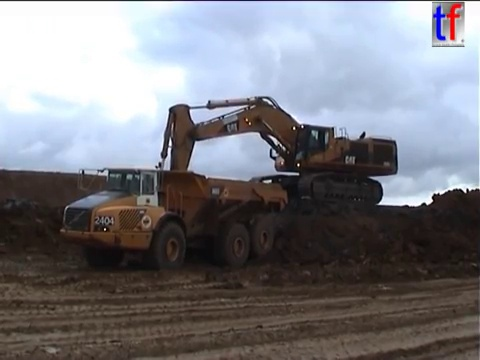excavator: (148, 93, 403, 235)
truck: (54, 158, 291, 273)
